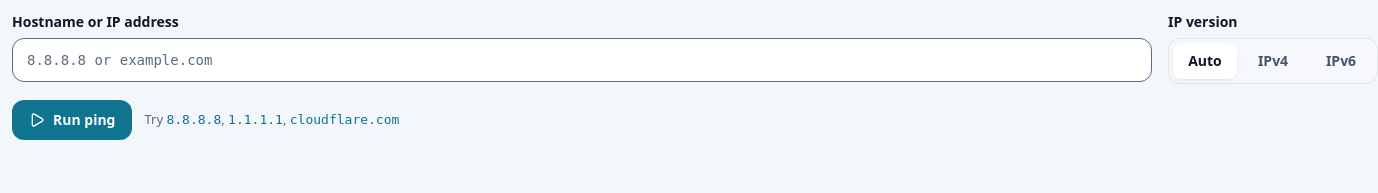
Test case: DiagnosticForm › shows a friendly message for 192.168.1.10 and does not submit
The width and height of the screenshot is (1378, 193).
Type "192.168.1.10" into the field labelled "Hostname or IP address" at [582, 60], box left=12, top=38, right=1152, bottom=82
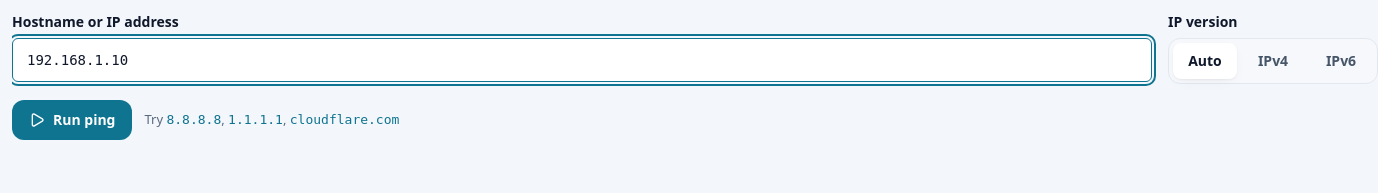
Click the button "Run ping" at [72, 120], box left=12, top=100, right=132, bottom=140
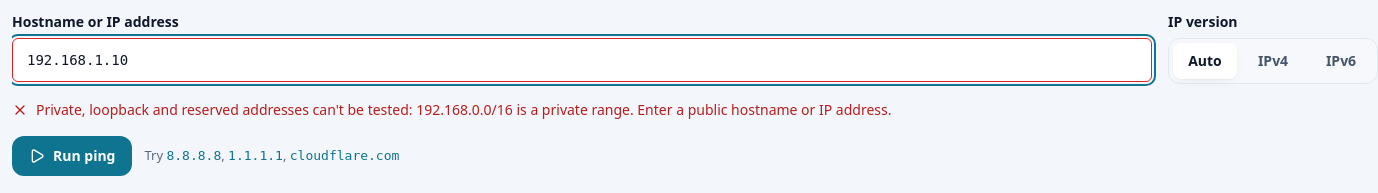
expect the text "can.t be tested" is shown: met, box left=36, top=100, right=892, bottom=119
